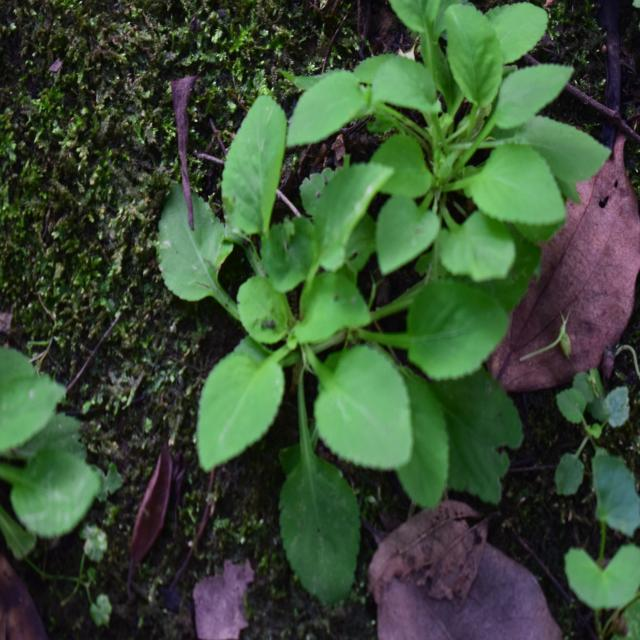Viola: (202, 165, 515, 512), (354, 18, 595, 315)
